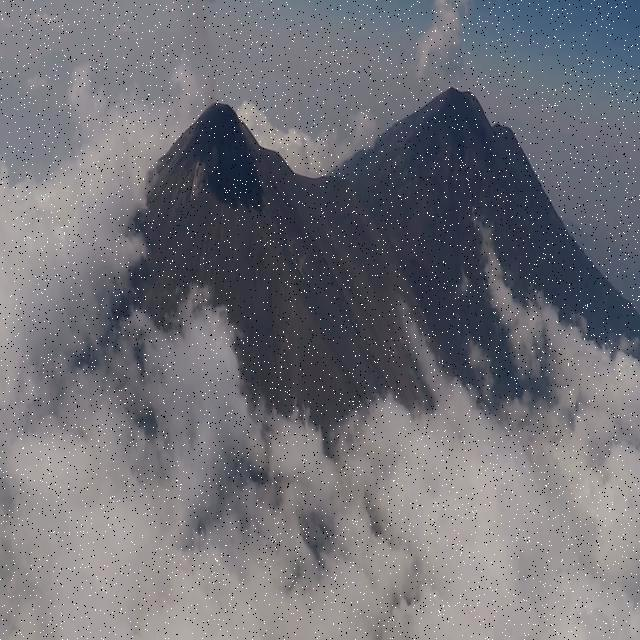Summit: (142, 94, 295, 192)
